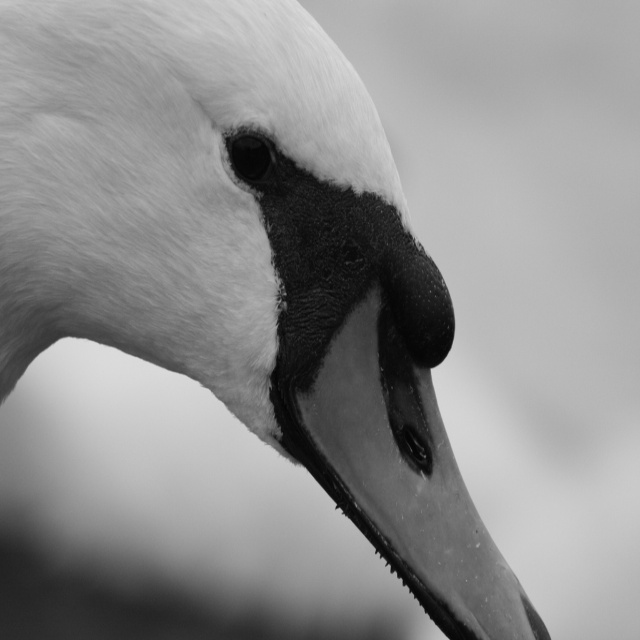Goose: (0, 0, 551, 637)
